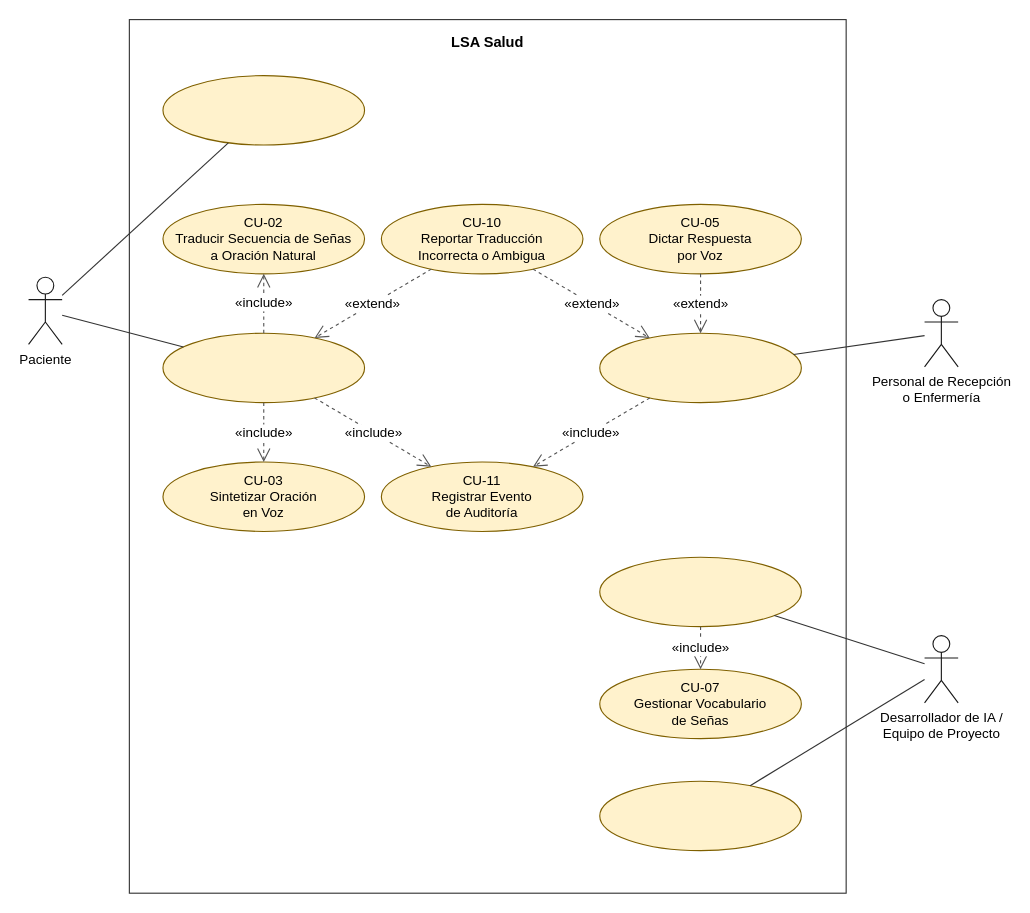
Image size: 1030x913. Some labels were removed from this diagram. The shapes that lost their labels are listed below. From the top down, each one's centre as x and y in pixels, then its label:
point 263,109: CU-09 Otorgar Consentimiento Explícito de Cámara
point 263,367: CU-01 Comunicarse mediante Lengua de Señas Argentina
point 700,367: CU-04 Responder al Paciente
point 700,591: CU-06 Capturar Muestra de Seña para Entrenamiento
point 700,815: CU-08 Entrenar el Modelo de Reconocimiento
